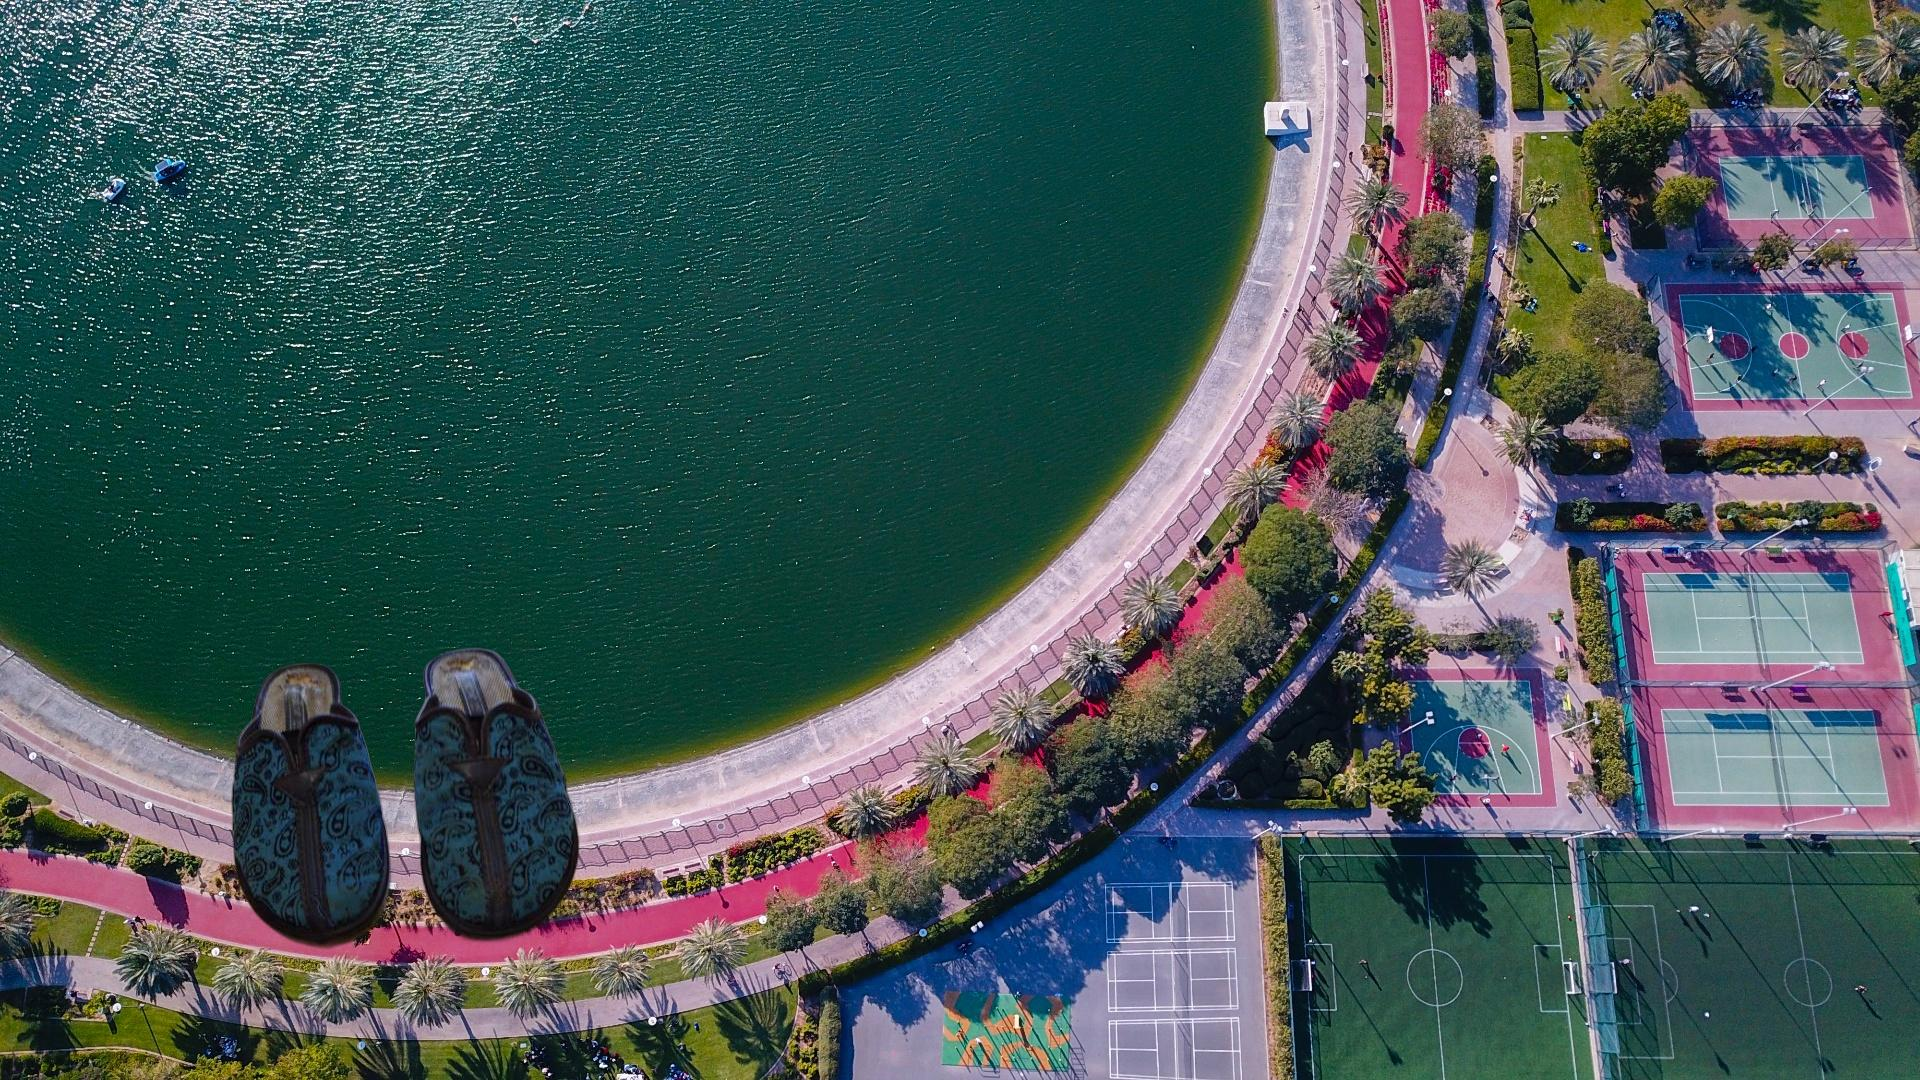shoes: (228, 642, 583, 953)
